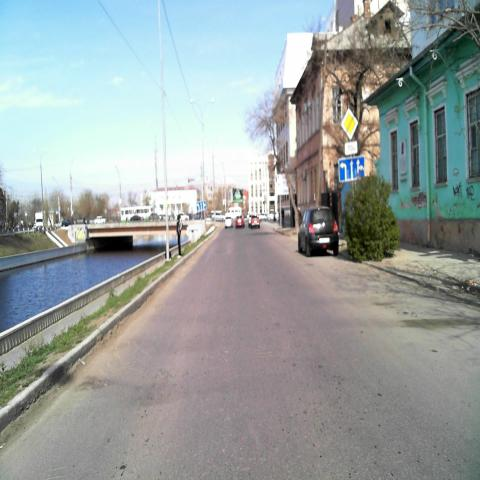8_1_1: (344, 141, 357, 155)
